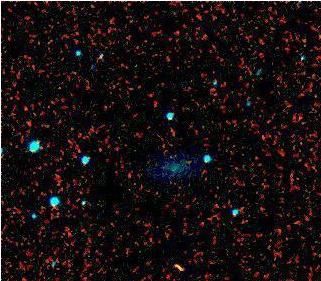star: (163, 248, 193, 278)
